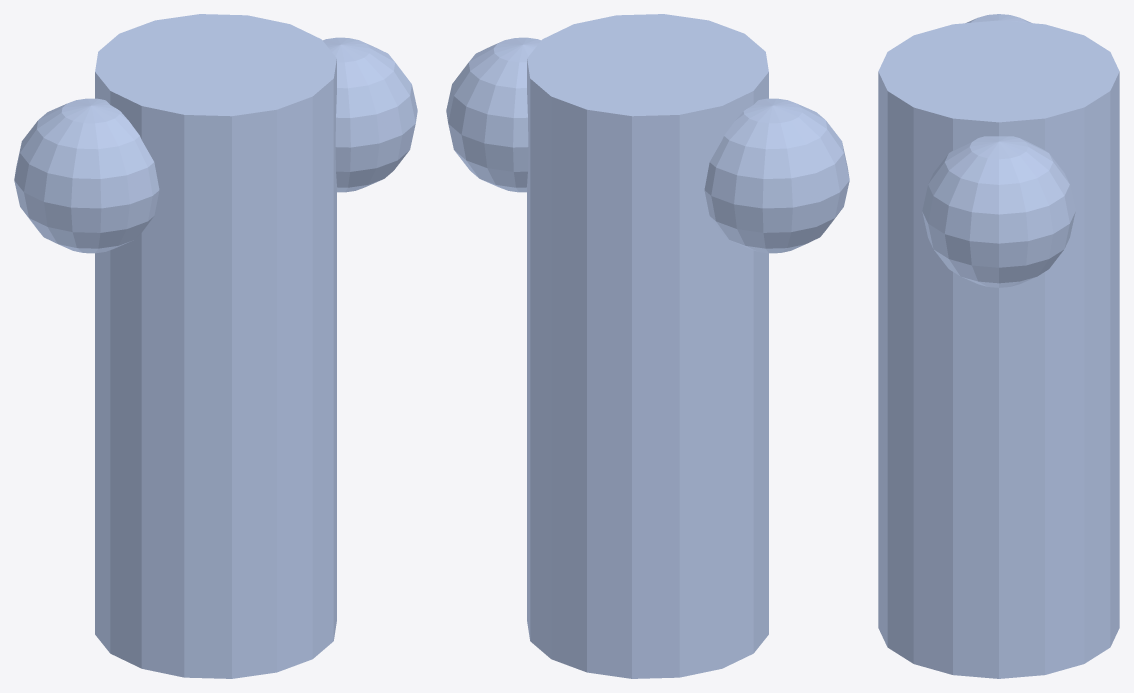
Rendered from E_NorEasterTitan.fbx.
3 views of the same model, side by side, from view 1: azimuth 30°, elevation 25°; view 2: azimuth 150°, elevation 25°; view 3: azimuth 270°, elevation 25° (orthographic).
Visible parts, largest first — view 1: E_NorEasterTitan; view 2: E_NorEasterTitan; view 3: E_NorEasterTitan.
Boxes of the visible parts, x1,y1,x2,y2 form: E_NorEasterTitan: [14, 14, 417, 678]; E_NorEasterTitan: [446, 14, 849, 678]; E_NorEasterTitan: [878, 14, 1119, 678].
Bounding box in the file's own units: 2 × 2.8 × 1.1.
